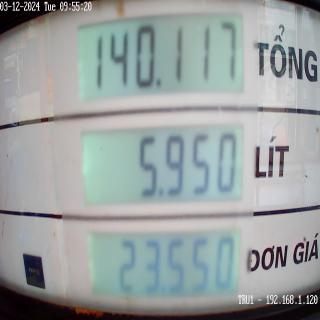screen: (70, 0, 248, 319)
